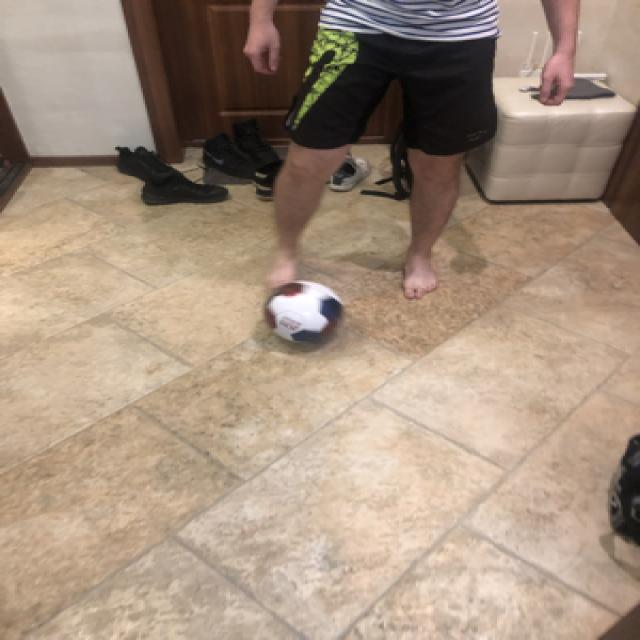soccer_ball: (260, 277, 342, 344)
